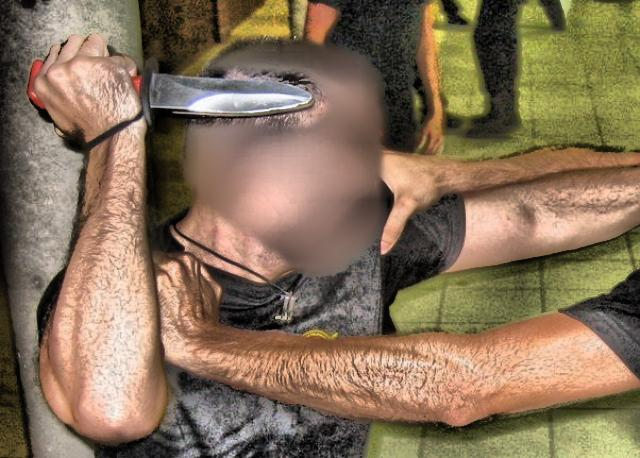knife: (16, 26, 326, 128)
